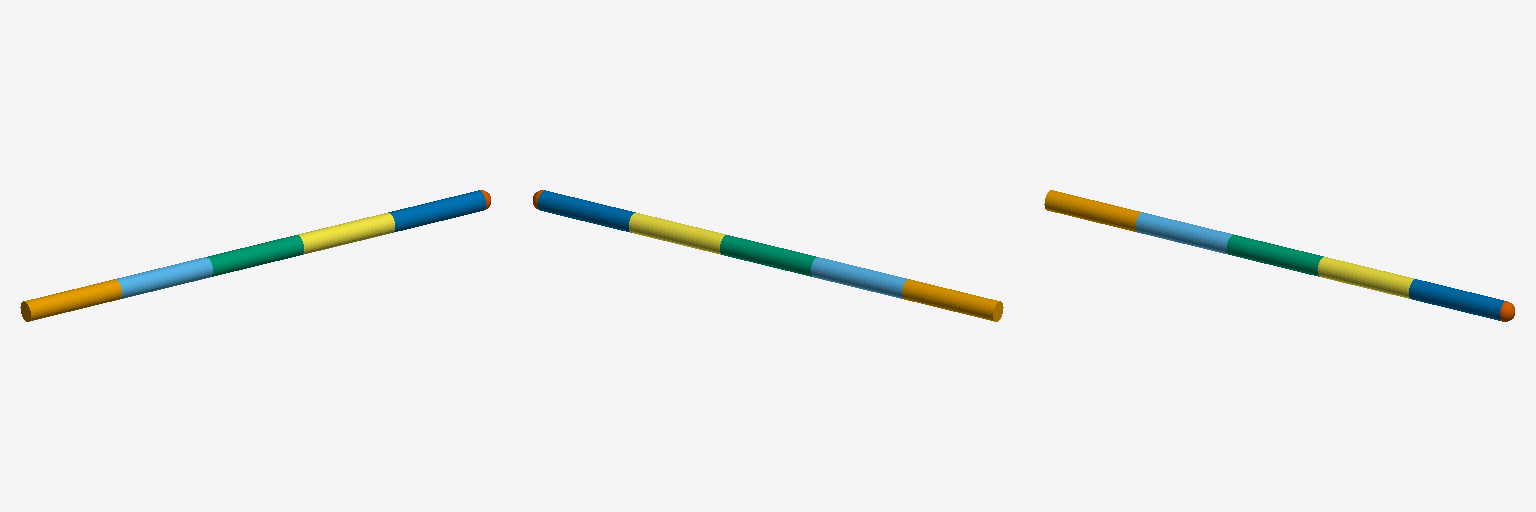
robot.urdf — myfirst:
<?xml version="1.0"?>
<robot name="myfirst">
  <link name="link_0">
    <visual>
      <origin rpy="0 -1.5707 0" xyz="0.5 0 0"/>
      <geometry>
        <cylinder length="1" radius="0.1"/>
      </geometry>
    </visual>
    <collision>
      <origin rpy="0 -1.5707 0" xyz="0.5 0 0"/>
      <geometry>
        <box size="0.2 0.2 1"/>
      </geometry>
    </collision>
    <inertial>
      <mass value="10"/>
      <!-- 1/3*m*l^2 = 1/3*10*1^2 = 10/3 -->
      <inertia ixx="3.333" ixy="0" ixz="0" iyy="0" iyz="0" izz="3.333"/>
      <origin rpy="0 0 0" xyz="0.5 0 0"/>
    </inertial>
  </link>
  <link name="link_1">
    <visual>
      <origin rpy="0 -1.5707 0" xyz="0.5 0 0"/>
      <geometry>
        <cylinder length="1" radius="0.1"/>
      </geometry>
    </visual>
    <collision>
      <origin rpy="0 -1.5707 0" xyz="0.5 0 0"/>
      <geometry>
        <box size="0.2 0.2 1"/>
      </geometry>
    </collision>
    <inertial>
      <mass value="10"/>
      <!-- 1/3*m*l^2 = 1/3*10*1^2 = 10/3 -->
      <inertia ixx="3.333" ixy="0" ixz="0" iyy="0" iyz="0" izz="3.333"/>
      <origin rpy="0 0 0" xyz="0.5 0 0"/>
    </inertial>
  </link>
  <link name="link_2">
    <visual>
      <origin rpy="0 -1.5707 0" xyz="0.5 0 0"/>
      <geometry>
        <cylinder length="1" radius="0.1"/>
      </geometry>
    </visual>
    <collision>
      <origin rpy="0 -1.5707 0" xyz="0.5 0 0"/>
      <geometry>
        <box size="0.2 0.2 1"/>
      </geometry>
    </collision>
    <inertial>
      <mass value="10"/>
      <!-- 1/3*m*l^2 = 1/3*10*1^2 = 10/3 -->
      <inertia ixx="3.333" ixy="0" ixz="0" iyy="0" iyz="0" izz="3.333"/>
      <origin rpy="0 0 0" xyz="0.5 0 0"/>
    </inertial>
  </link>
  <link name="link_3">
    <visual>
      <origin rpy="0 -1.5707 0" xyz="0.5 0 0"/>
      <geometry>
        <cylinder length="1" radius="0.1"/>
      </geometry>
    </visual>
    <collision>
      <origin rpy="0 -1.5707 0" xyz="0.5 0 0"/>
      <geometry>
        <box size="0.2 0.2 1"/>
      </geometry>
    </collision>
    <inertial>
      <mass value="10"/>
      <!-- 1/3*m*l^2 = 1/3*10*1^2 = 10/3 -->
      <inertia ixx="3.333" ixy="0" ixz="0" iyy="0" iyz="0" izz="3.333"/>
      <origin rpy="0 0 0" xyz="0.5 0 0"/>
    </inertial>
  </link>
  <link name="link_4">
    <visual>
      <origin rpy="0 -1.5707 0" xyz="0.5 0 0"/>
      <geometry>
        <cylinder length="1" radius="0.1"/>
      </geometry>
    </visual>
    <collision>
      <origin rpy="0 -1.5707 0" xyz="0.5 0 0"/>
      <geometry>
        <box size="0.2 0.2 1"/>
      </geometry>
    </collision>
    <inertial>
      <mass value="10"/>
      <!-- 1/3*m*l^2 = 1/3*10*1^2 = 10/3 -->
      <inertia ixx="3.333" ixy="0" ixz="0" iyy="0" iyz="0" izz="3.333"/>
      <origin rpy="0 0 0" xyz="0.5 0 0"/>
    </inertial>
  </link>
  <link name="head">
    <visual>
      <origin rpy="0 0 0" xyz="0 0 0"/>
      <geometry>
        <sphere radius="0.1"/>
      </geometry>
    </visual>
    <collision>
      <origin rpy="0 0 0" xyz="0 0 0"/>
      <geometry>
        <box size="0.2 0.2 0.2"/>
      </geometry>
    </collision>
    <inertial>
      <mass value="0.1"/>
      <origin rpy="0 0 0" xyz="0 0 0"/>
      <inertia ixx="0.0004" ixy="0" ixz="0" iyy="0.0004" iyz="0" izz="0.004"/>
    </inertial>
  </link>
  <joint name="joint_1" type="revolute">
    <parent link="link_0"/>
    <child link="link_1"/>
    <origin xyz="1 0 0"/>
    <axis xyz="0 0 1"/>
    <limit lower="-3" upper="3" effort="10" velocity="1"/>
    <dynamics damping="1.0" friction="0.0"/>
  </joint>
  <joint name="joint_2" type="revolute">
    <parent link="link_1"/>
    <child link="link_2"/>
    <origin xyz="1 0 0"/>
    <axis xyz="0 0 1"/>
    <limit lower="-3" upper="3" effort="10" velocity="1"/>
    <dynamics damping="1.0" friction="0.0"/>
  </joint>
  <joint name="joint_3" type="revolute">
    <parent link="link_2"/>
    <child link="link_3"/>
    <origin xyz="1 0 0"/>
    <axis xyz="0 0 1"/>
    <limit lower="-3" upper="3" effort="10" velocity="1"/>
    <dynamics damping="1.0" friction="0.0"/>
  </joint>
  <joint name="joint_4" type="revolute">
    <parent link="link_3"/>
    <child link="link_4"/>
    <origin xyz="1 0 0"/>
    <axis xyz="0 0 1"/>
    <limit lower="-3" upper="3" effort="10" velocity="1"/>
    <dynamics damping="1.0" friction="0.0"/>
  </joint>
  <joint name="head_joint" type="revolute">
    <parent link="link_4"/>
    <child link="head"/>
    <origin xyz="1 0 0"/>
    <axis xyz="0 0 1"/>
    <limit lower="-3" upper="3" effort="10" velocity="1"/>
    <dynamics damping="1.0" friction="0.0"/>
  </joint>
  <gazebo reference="link_0">
    <mu1>0.8</mu1>
    <mu2>0.8</mu2>
    <material>Gazebo/Gray</material>
  </gazebo>
  <gazebo reference="link_1">
    <mu1>0.8</mu1>
    <mu2>0.8</mu2>
    <material>Gazebo/Green</material>
  </gazebo>
  <gazebo reference="link_2">
    <mu1>0.8</mu1>
    <mu2>0.8</mu2>
    <material>Gazebo/Green</material>
  </gazebo>
  <gazebo reference="link_3">
    <mu1>0.8</mu1>
    <mu2>0.8</mu2>
    <material>Gazebo/Green</material>
  </gazebo>
  <gazebo reference="link_4">
    <mu1>0.8</mu1>
    <mu2>0.8</mu2>
    <material>Gazebo/Green</material>
  </gazebo>
  <gazebo reference="head">
    <mu1>0.8</mu1>
    <mu2>0.8</mu2>
    <material>Gazebo/Blue</material>
  </gazebo>
  <gazebo>
    <plugin name="linkbot_model_plugin" filename="liblinkbot_model_plugind.so">
        <kP>2000.0</kP>
        <kI>50.0</kI>
        <kD>0.0</kD>
        <joy_scale>2.00</joy_scale>
    </plugin>
  </gazebo>
</robot>

--- Facts derived from the render (not from the file) ---
Views: 3 orthographic renders of the robot side by side, from view 1: azimuth 30°, elevation 25°; view 2: azimuth 150°, elevation 25°; view 3: azimuth 330°, elevation 25°.
Robot: myfirst — 6 links, 5 joints (5 revolute); root link link_0; default pose: all joints at 0.
Links seen in each view (by area): view 1: link_0, link_1, link_3, link_4, link_2; view 2: link_0, link_1, link_3, link_4, link_2; view 3: link_0, link_1, link_3, link_2, link_4.
Link boxes in pixels (left/top/right/bottom): link_0: left=20, top=279, right=121, bottom=321; link_1: left=116, top=257, right=212, bottom=298; link_3: left=298, top=213, right=394, bottom=254; link_4: left=388, top=190, right=485, bottom=232; link_2: left=207, top=235, right=303, bottom=276; link_0: left=902, top=279, right=1003, bottom=321; link_1: left=811, top=257, right=907, bottom=298; link_3: left=629, top=213, right=725, bottom=254; link_4: left=538, top=190, right=635, bottom=232; link_2: left=720, top=235, right=816, bottom=276; link_0: left=1044, top=190, right=1141, bottom=232; link_1: left=1136, top=212, right=1233, bottom=253; link_3: left=1318, top=257, right=1413, bottom=298; link_2: left=1227, top=235, right=1323, bottom=276; link_4: left=1409, top=279, right=1504, bottom=320.
Bounding box of the posed robot: 5.1 × 0.2 × 0.2001 m (x, y, z).
Geometry: primitives only (box / cylinder / sphere), no mesh files.
